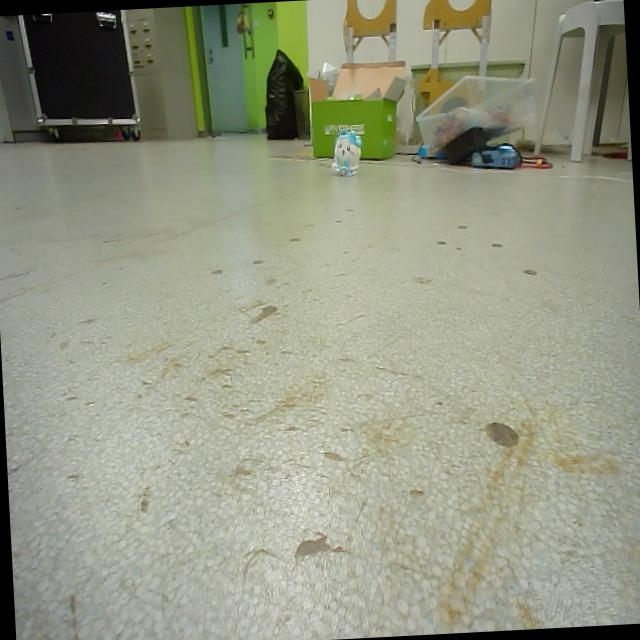xiaoba: (329, 130, 365, 180)
